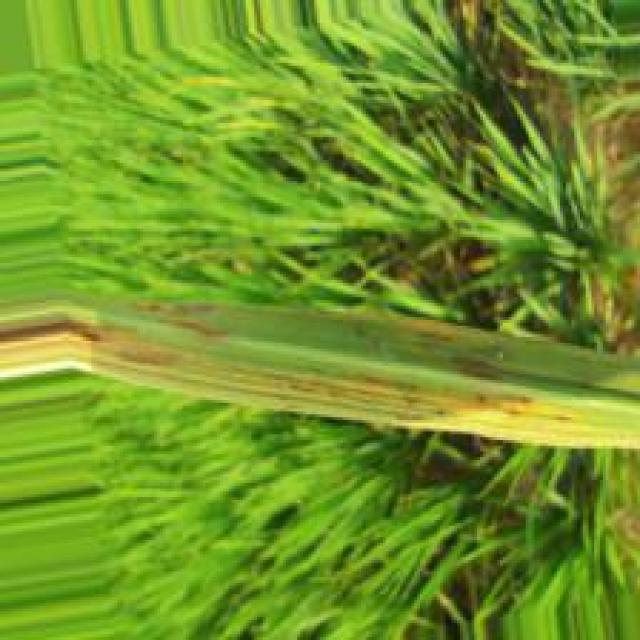Narrow_Brown_Leaf_Spot: (3, 308, 610, 450)
